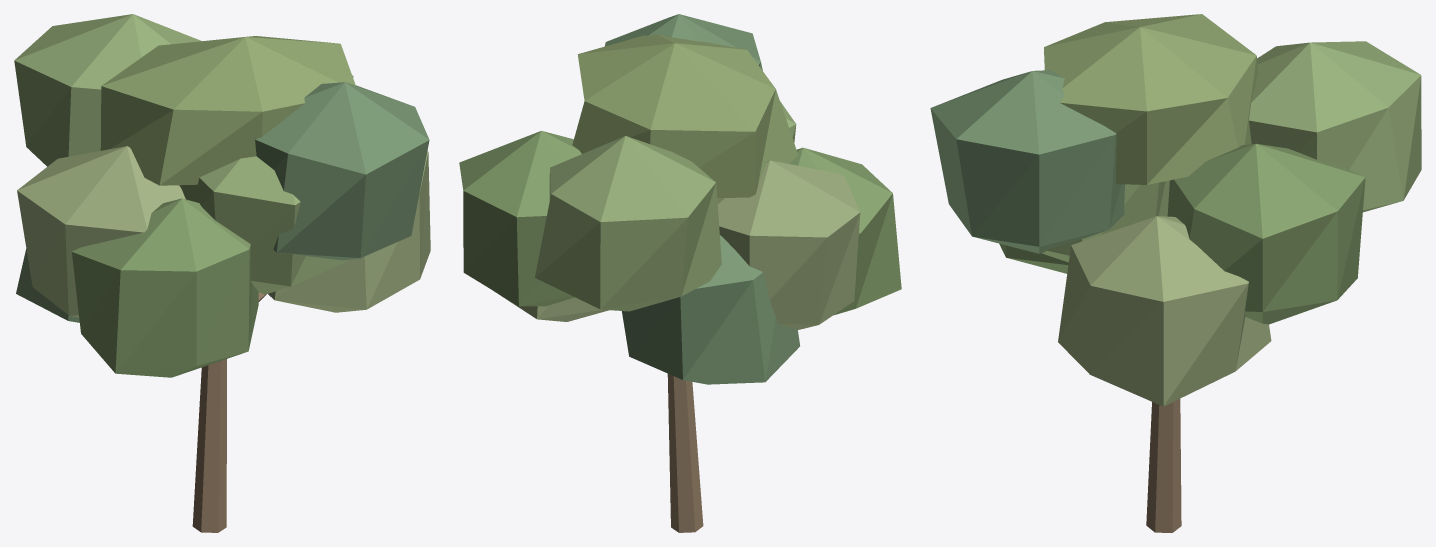
3 views of the same model, side by side, from view 1: azimuth 30°, elevation 25°; view 2: azimuth 150°, elevation 25°; view 3: azimuth 270°, elevation 25° (orthographic). The views are drawn at different scales.
Bounding box in the file's own units: 6.91 × 8.33 × 7.25.
